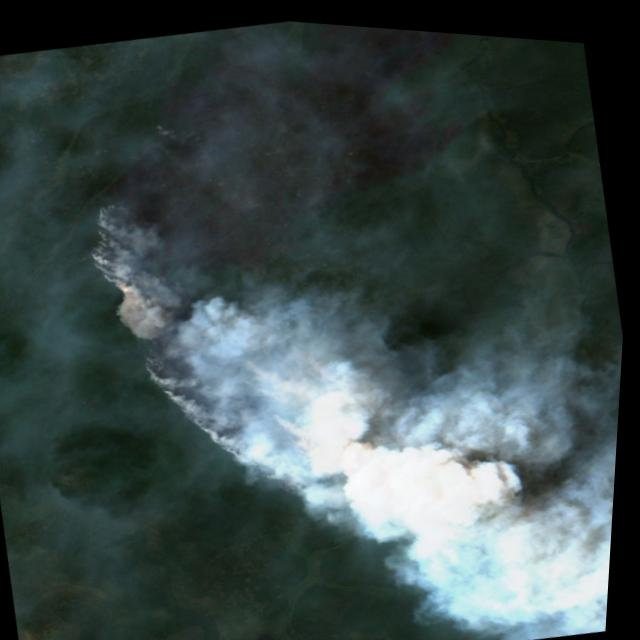fire: (63, 159, 385, 532)
